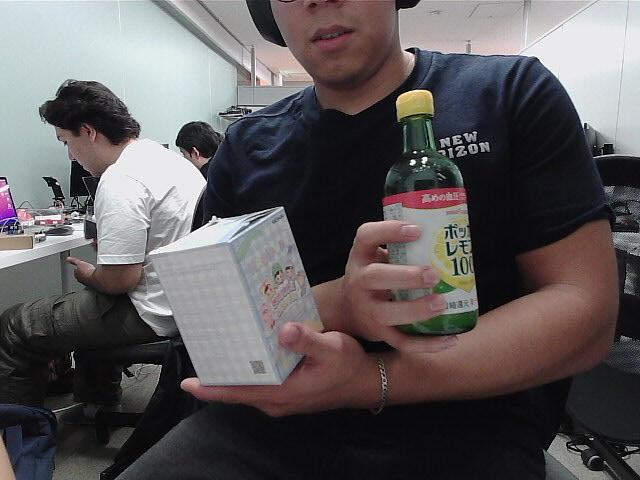Blind_box: (153, 214, 324, 384)
Lemon_sapporo: (374, 88, 481, 336)
